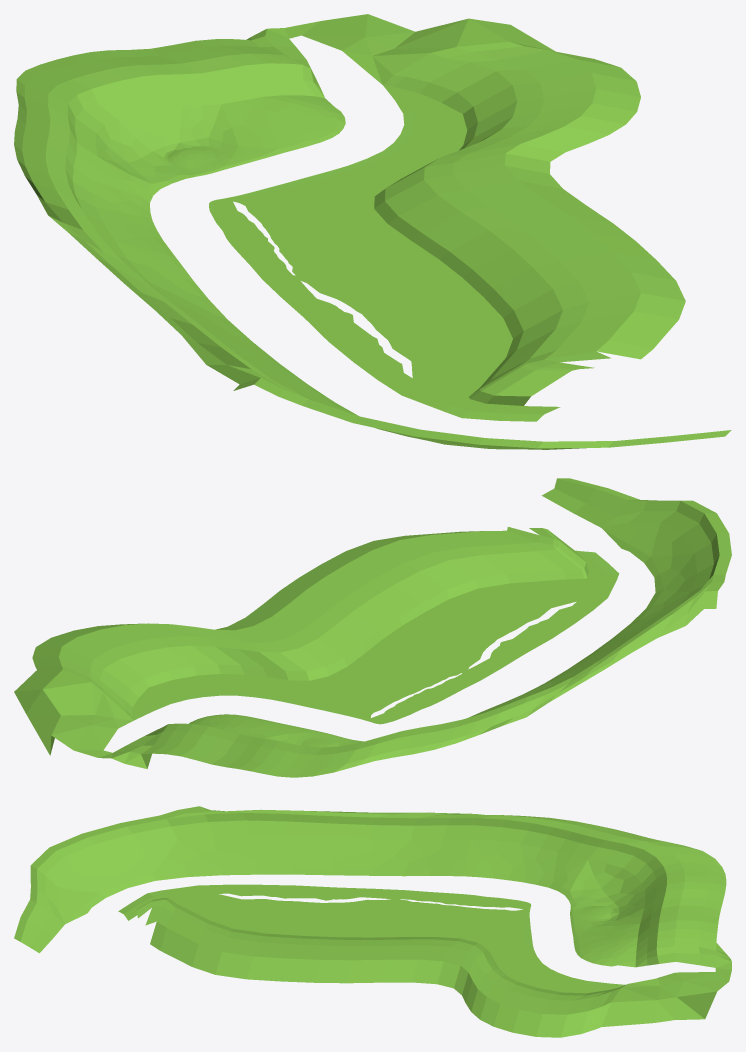
File: chaopt1.glb
3 views of the same model, one above another, from view 1: azimuth 30°, elevation 25°; view 2: azimuth 150°, elevation 25°; view 3: azimuth 270°, elevation 25° (orthographic). The views are drawn at different scales.
Visible parts, largest first — view 1: parte com grama; view 2: parte com grama; view 3: parte com grama.
Boxes of the visible parts, x1,y1,x2,y2 form: parte com grama: (14,14,731,449); parte com grama: (14,478,731,777); parte com grama: (14,806,731,1037).
Bounding box in the file's own units: 371 × 41.93 × 531.
